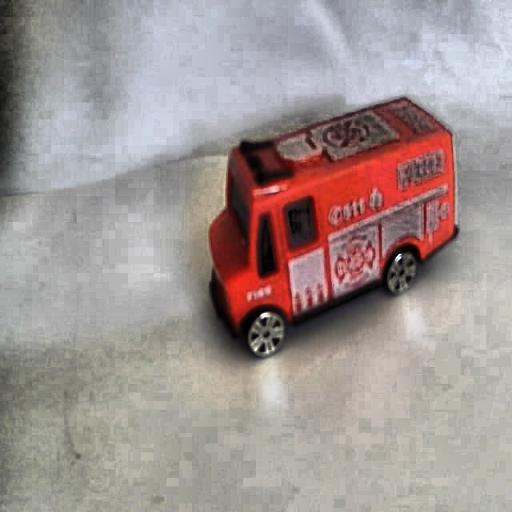fire_truck: (202, 92, 462, 358)
